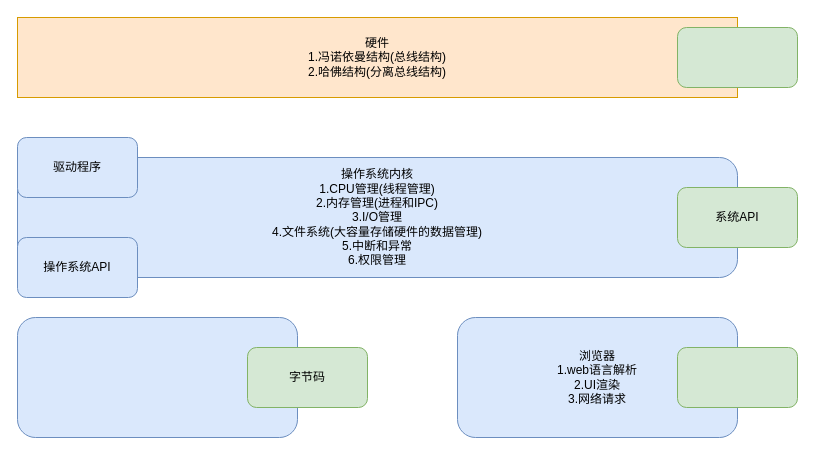
The diagram is 815 pixels wide and 455 high, and some of its shapes have lost their labels. The shapes that lost their labels are listed below. From the top down, each one's centre as x and y in pixels, then its label:
(737,57): 硬件指令集
(157,377): 虚拟机 1.字节码管理 2.内存自动管理 3.线程与同步锁 4.异常 5.native调用
(737,377): web脚本语言
